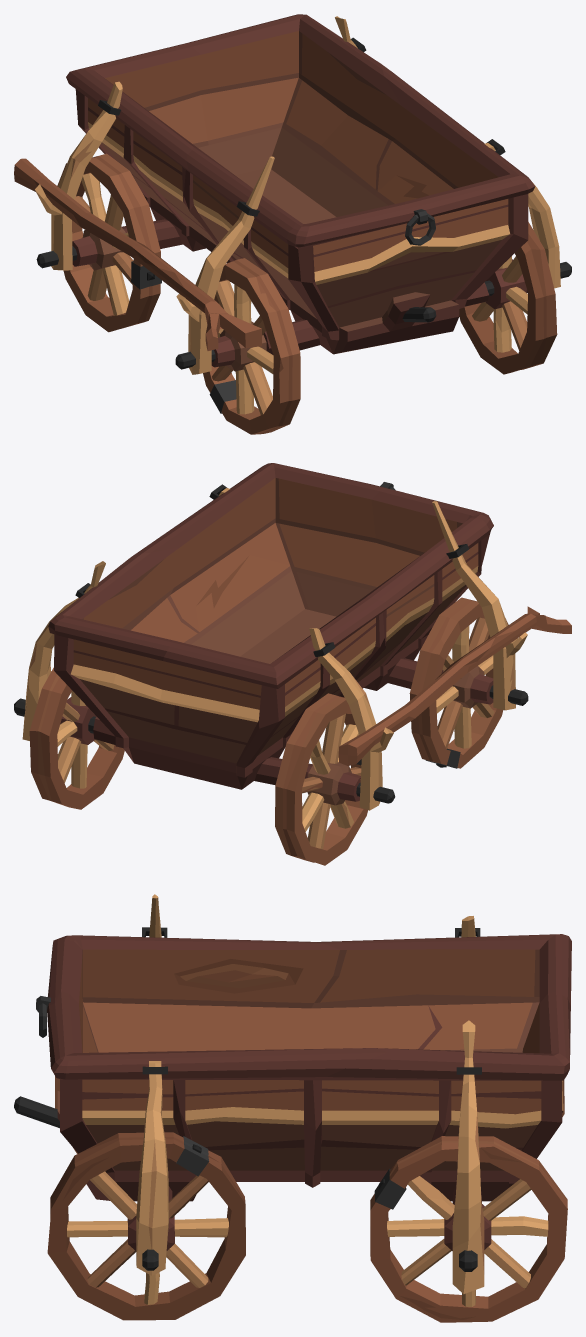
The model's file is cart.fbx.
The picture shows the model from 3 angles, top to bottom: view 1: azimuth 30°, elevation 25°; view 2: azimuth 150°, elevation 25°; view 3: azimuth 270°, elevation 25°; orthographic projection. The views are drawn at different scales.
Parts seen in each view (by area): view 1: cart, wheel.002, wheel.003, wheel.001, shaft, springs_with_hook, springs_with_hook.001, springs; view 2: cart, wheel.003, wheel.002, wheel, shaft, springs_with_hook, springs_with_hook.001, springs.001; view 3: cart, wheel.001, wheel, springs.001, springs, springs_with_hook.
Boxes of the visible parts, x1,y1,x2,y2 form: cart: [66, 14, 535, 354]; wheel.002: [175, 258, 300, 434]; wheel.003: [36, 153, 161, 332]; wheel.001: [459, 222, 571, 374]; shaft: [14, 158, 261, 350]; springs_with_hook: [176, 156, 274, 374]; springs_with_hook.001: [34, 81, 122, 270]; springs: [484, 139, 560, 288]; cart: [48, 463, 493, 789]; wheel.003: [275, 693, 395, 865]; wheel.002: [409, 597, 528, 768]; wheel: [14, 667, 124, 809]; shaft: [338, 606, 571, 765]; springs_with_hook: [432, 501, 527, 710]; springs_with_hook.001: [309, 628, 393, 810]; springs.001: [22, 561, 105, 740]; cart: [14, 934, 571, 1203]; wheel.001: [47, 1132, 245, 1320]; wheel: [370, 1136, 567, 1322]; springs.001: [452, 1020, 484, 1294]; springs: [136, 1061, 168, 1275]; springs_with_hook: [142, 894, 167, 937].
Bounding box in the file's own units: 3.23 × 2.04 × 3.46.
